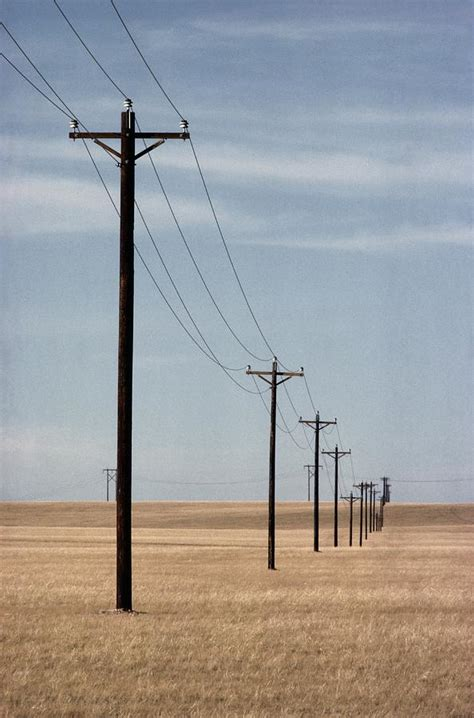pole: (232, 345, 321, 581)
